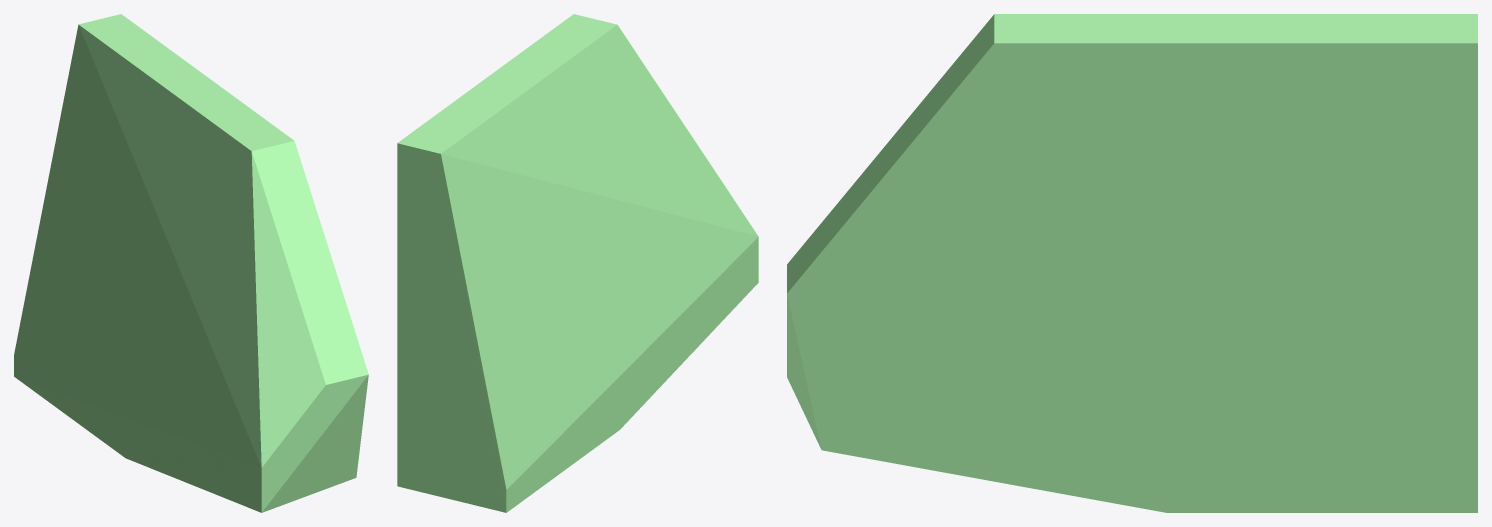
The model's file is rambler_robot_base_coll_7.dae.
3 renders of one model, left to right at view 1: azimuth 30°, elevation 25°; view 2: azimuth 150°, elevation 25°; view 3: azimuth 270°, elevation 25°, orthographic. The views are drawn at different scales.
Parts seen in each view (by area): view 1: Node_0x7fe0fc4d5380; view 2: Node_0x7fe0fc4d5380; view 3: Node_0x7fe0fc4d5380.
Part boxes in pixels (bbox=[...]): Node_0x7fe0fc4d5380: bbox=[14, 14, 368, 512]; Node_0x7fe0fc4d5380: bbox=[397, 14, 758, 512]; Node_0x7fe0fc4d5380: bbox=[787, 14, 1477, 512].
Bounding box in the file's own units: 0.0684 × 0.2053 × 0.2737.
